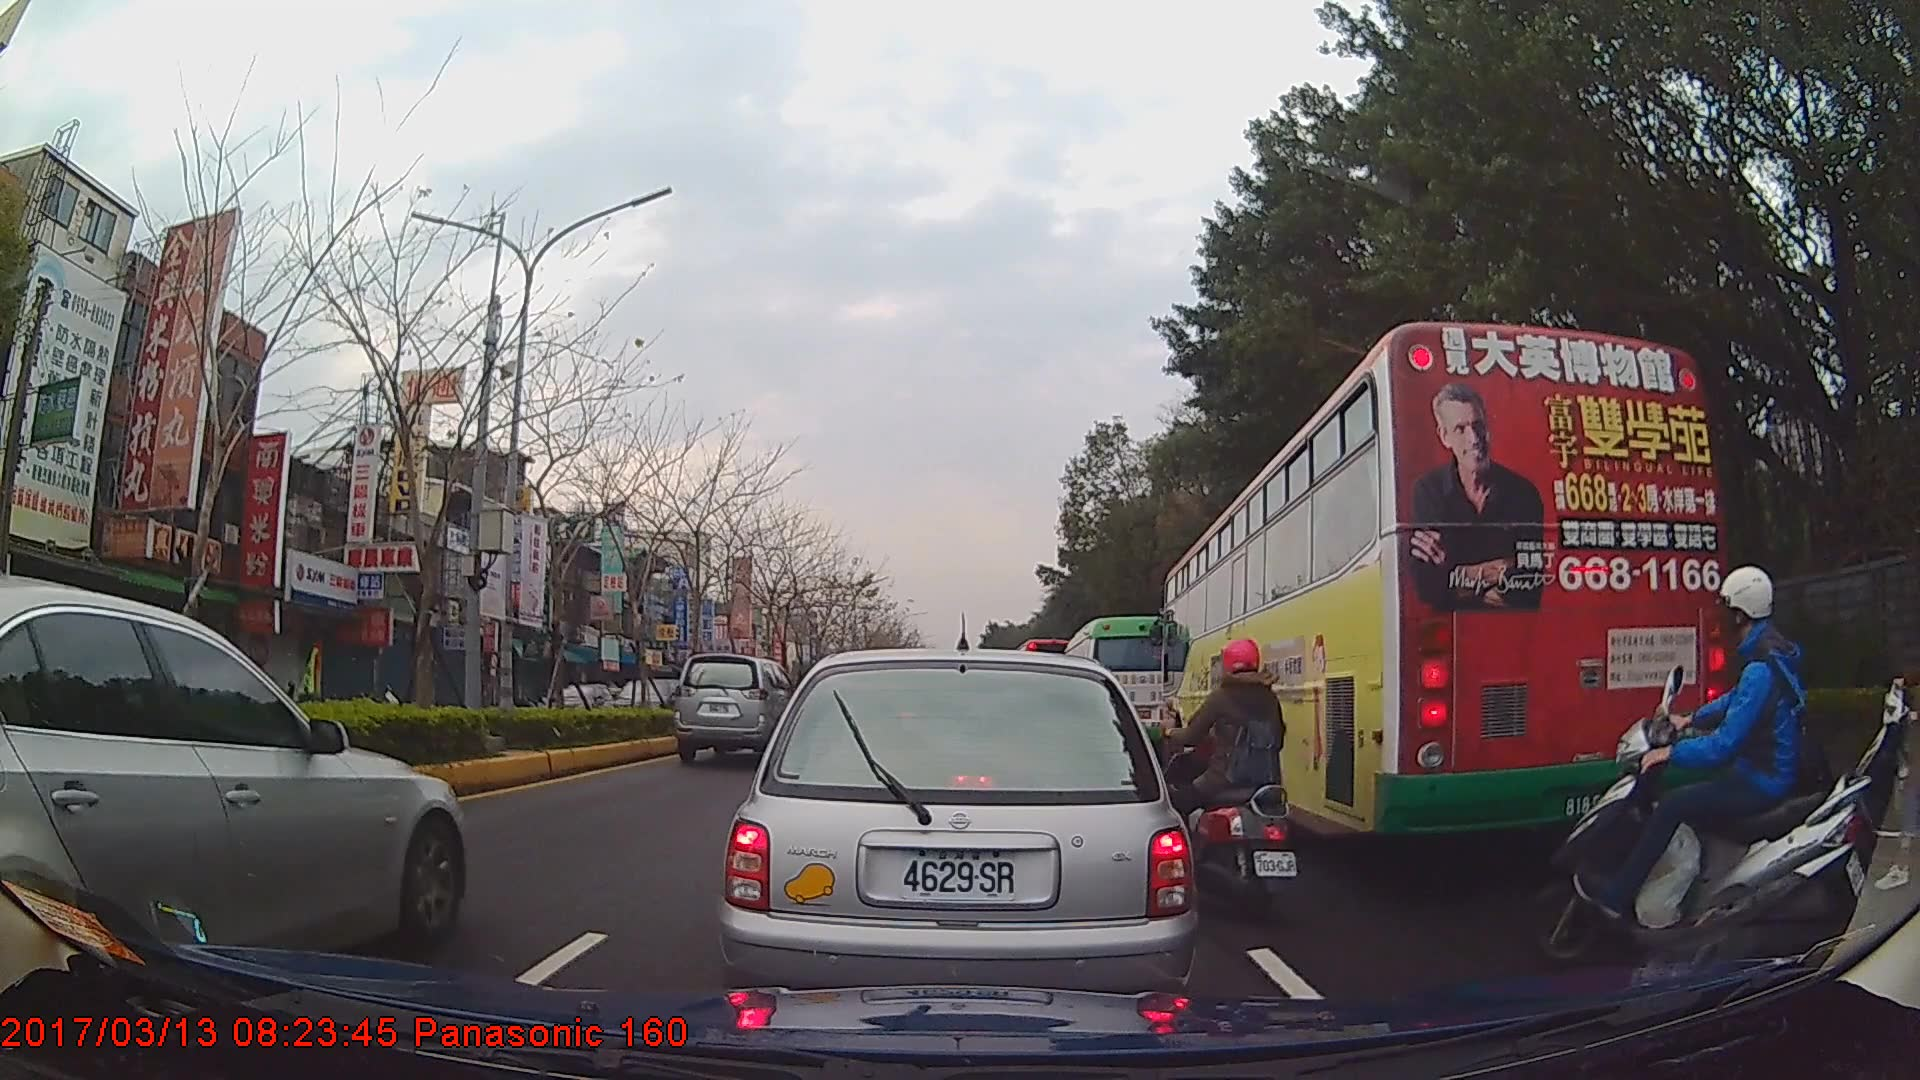rider: (1514, 567, 1867, 973), (1148, 634, 1293, 925), (1828, 571, 1920, 898)
vehicle: (1160, 320, 1727, 854), (0, 566, 468, 995), (716, 645, 1195, 1032), (1061, 615, 1186, 756), (673, 651, 808, 766), (536, 677, 618, 723)
